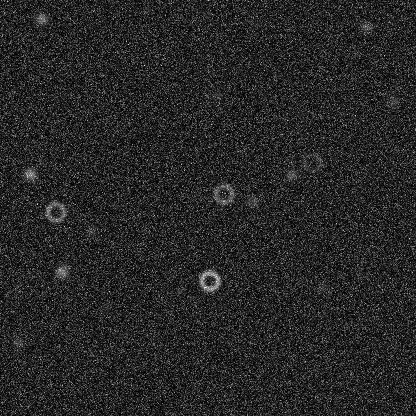Ring: (211, 181, 235, 205), (43, 199, 67, 223), (197, 268, 221, 292), (299, 150, 323, 174)
Spot: (245, 16, 261, 32), (283, 166, 299, 182), (313, 279, 329, 295), (385, 93, 401, 109), (22, 166, 38, 182), (10, 334, 26, 350), (82, 223, 98, 239), (209, 88, 225, 104), (358, 18, 374, 34), (33, 10, 49, 26), (53, 263, 69, 279), (98, 298, 114, 314), (244, 193, 260, 209)
